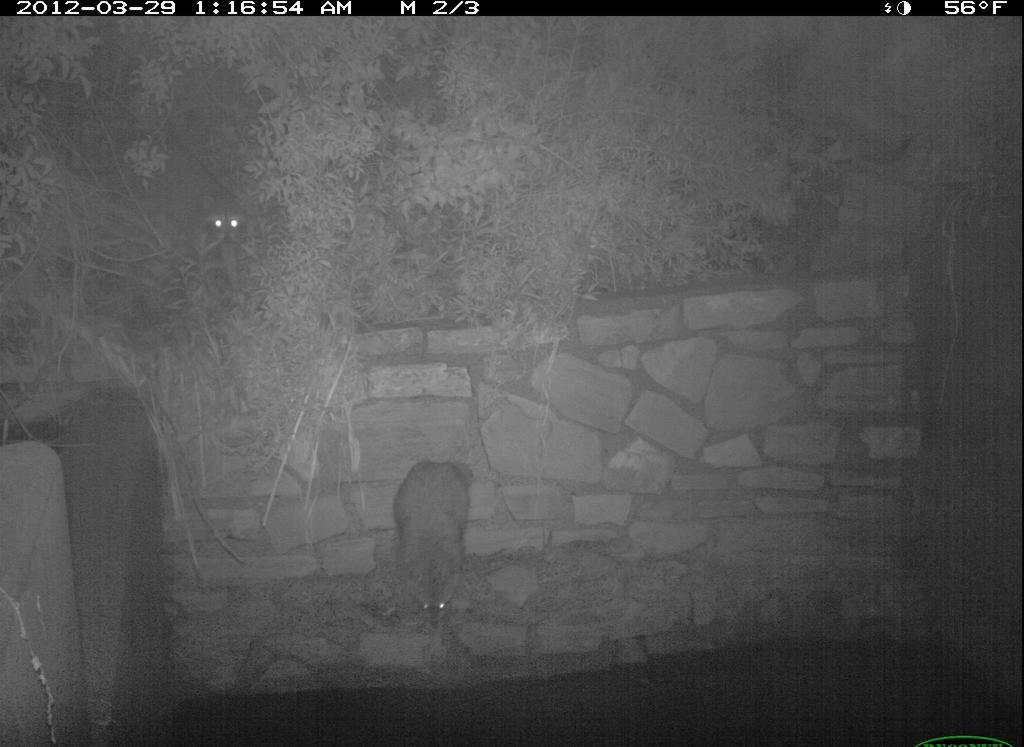raccoon: (373, 445, 483, 649), (144, 141, 250, 295)
